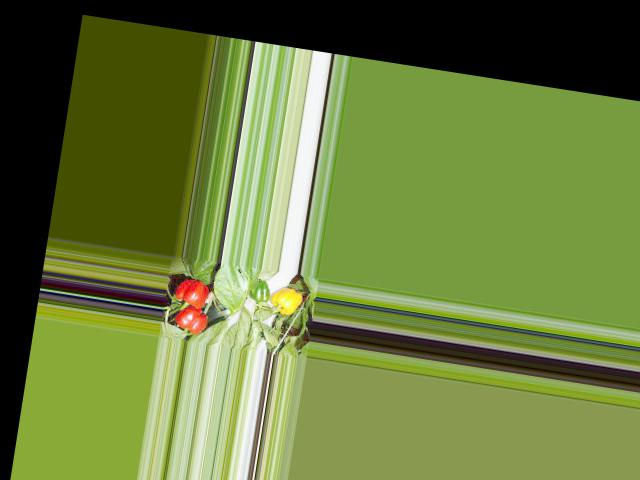bell_pepper: (267, 282, 307, 318)
